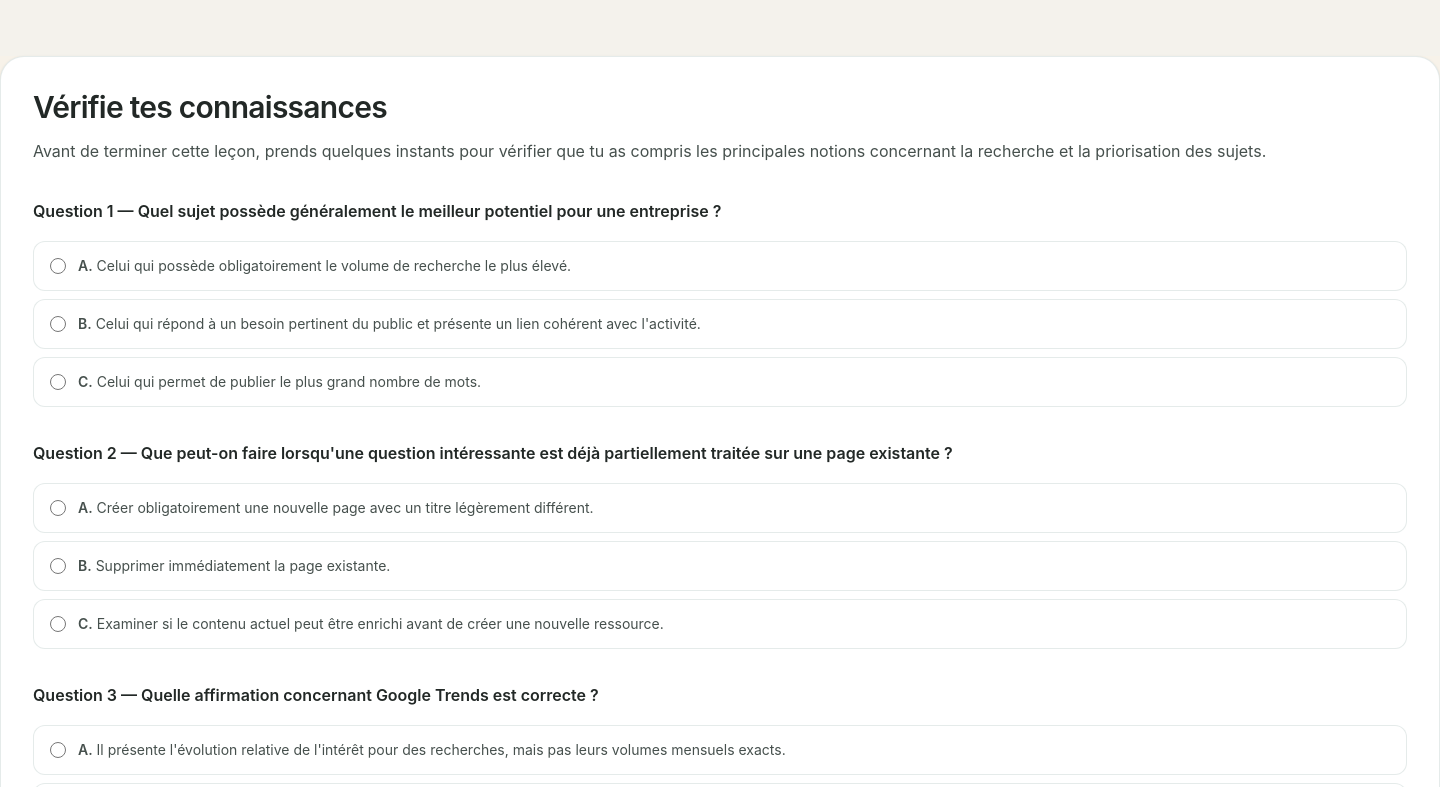
Test: questionnaire de la dix-septième leçon SEO › corrige les quatre réponses après validation
The width and height of the screenshot is (1440, 787).
expect the text "Question 4 : B." is not shown: met
Click the radio button named "quiz-question-1" at (58,324), box [50,316,66,332]
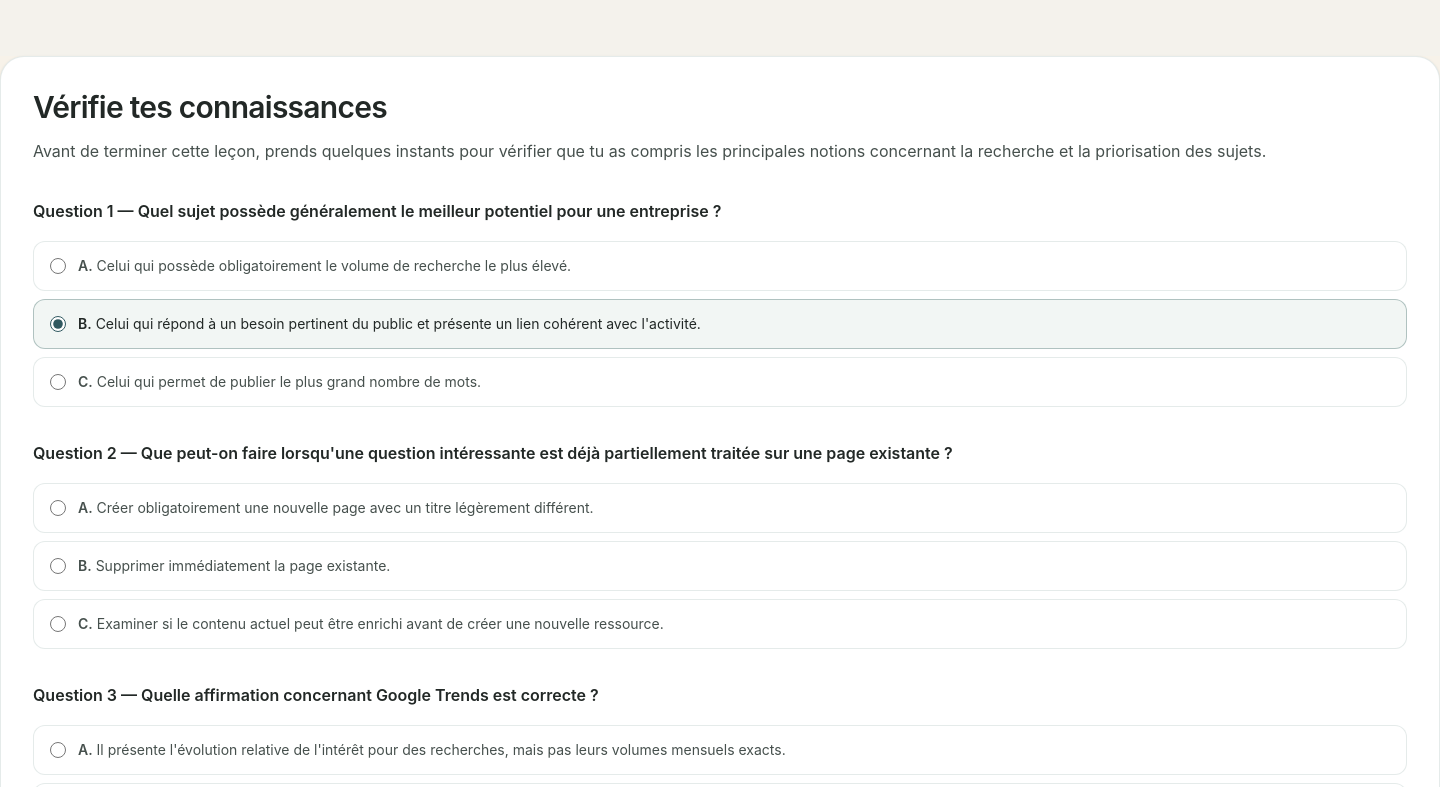
Click the radio button named "quiz-question-2" at (58,624), box [50,616,66,632]
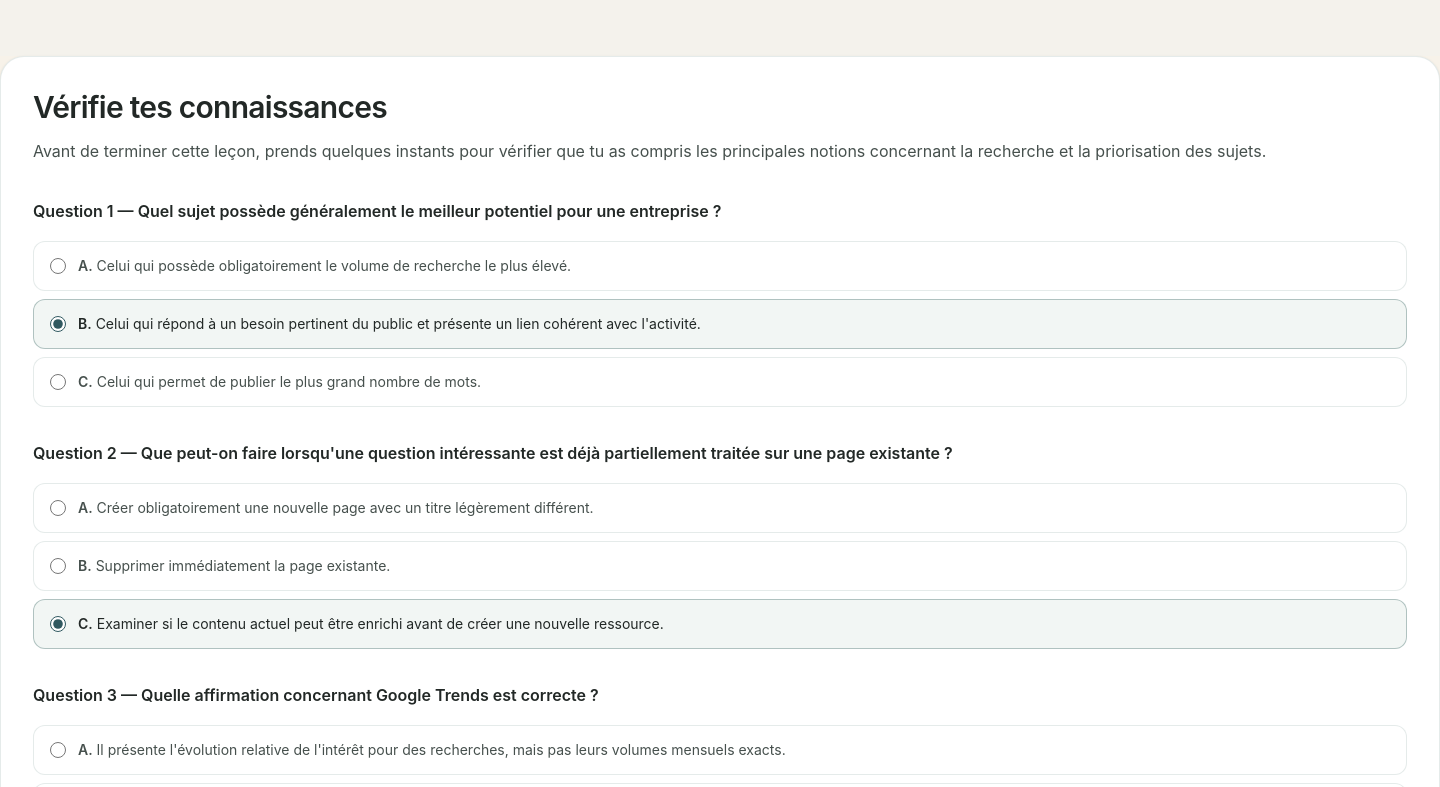
Click the radio button named "quiz-question-3" at (58,750), box [50,742,66,758]
(page scrolled)
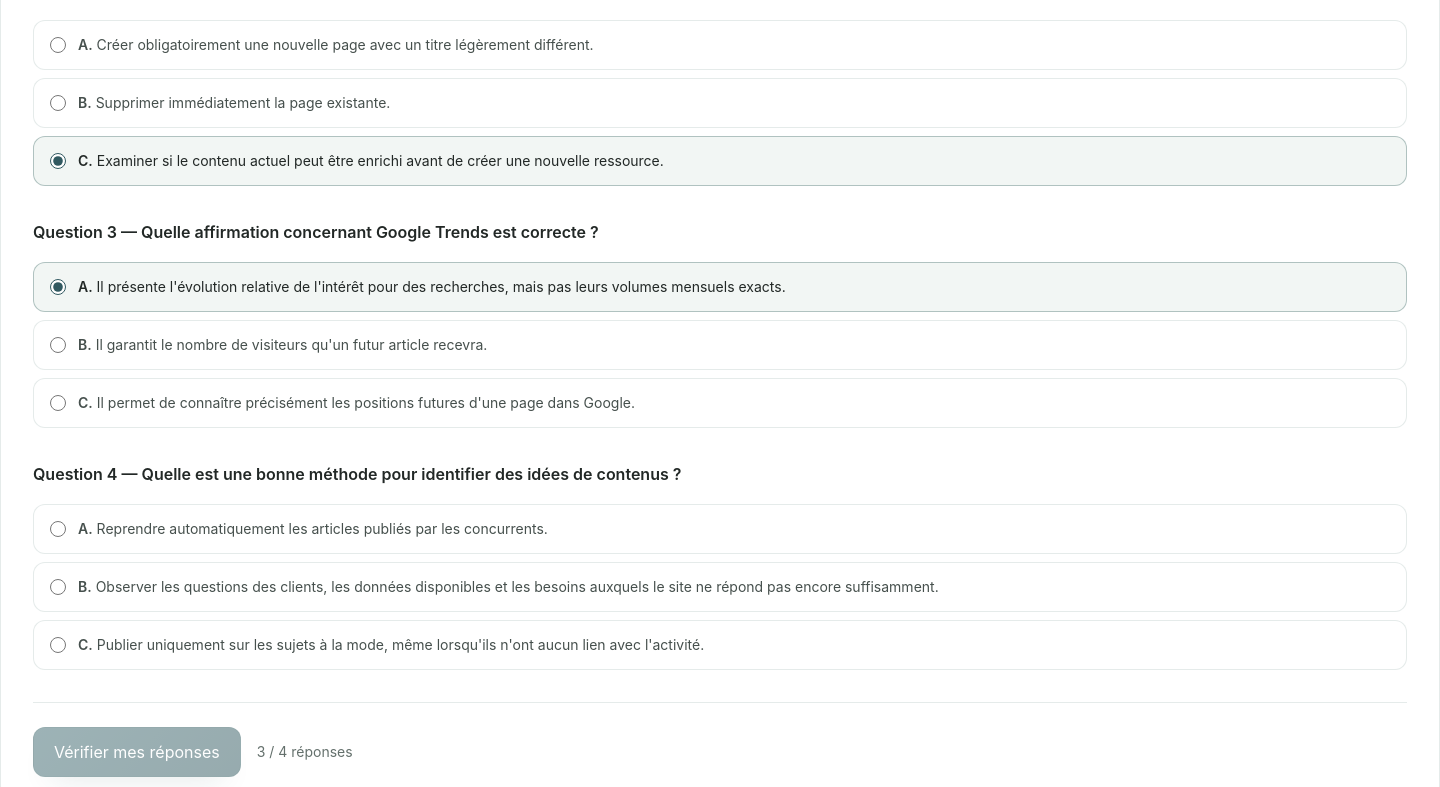
Click the radio button named "quiz-question-4" at (58,587), box [50,579,66,595]
(page scrolled)
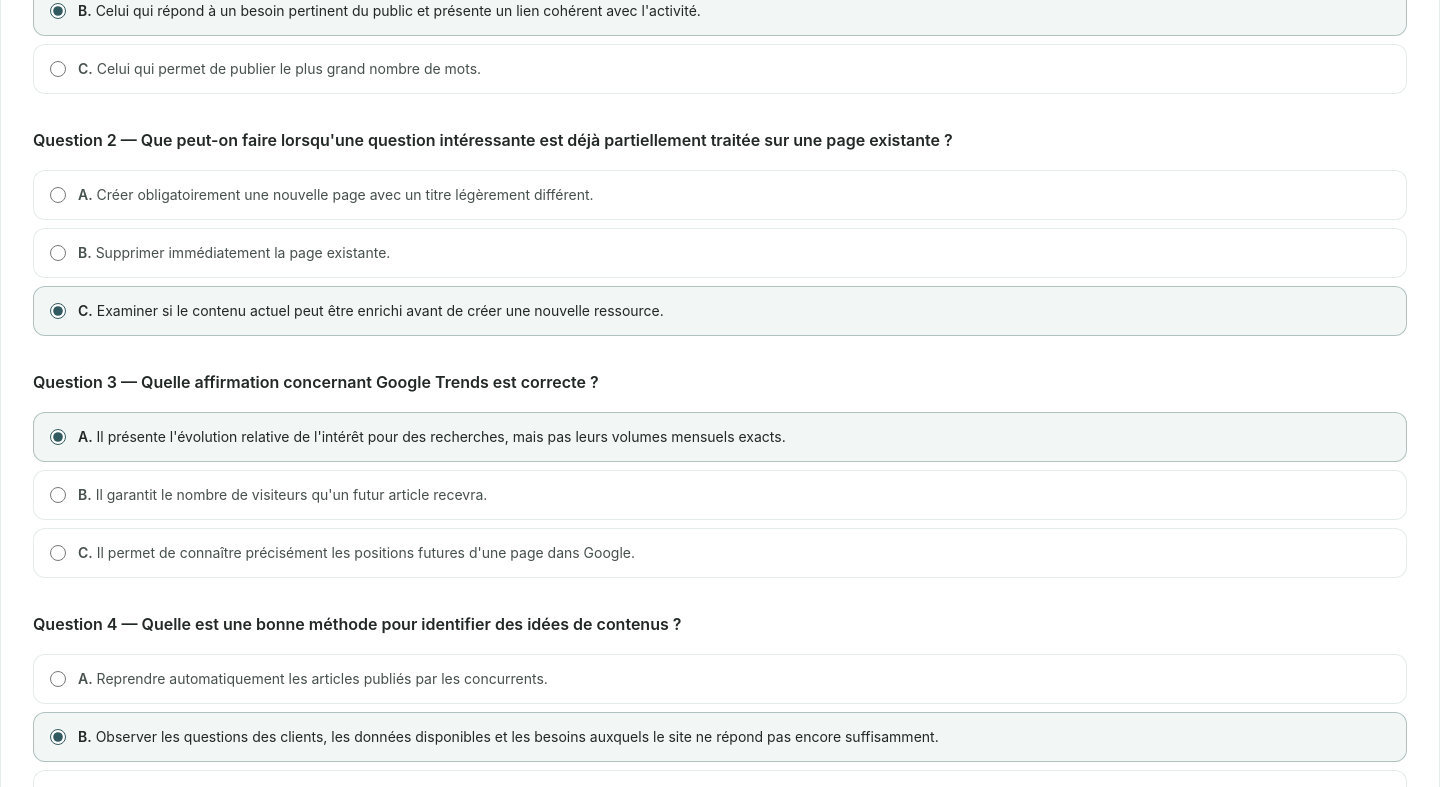
Submit the form
(page scrolled)
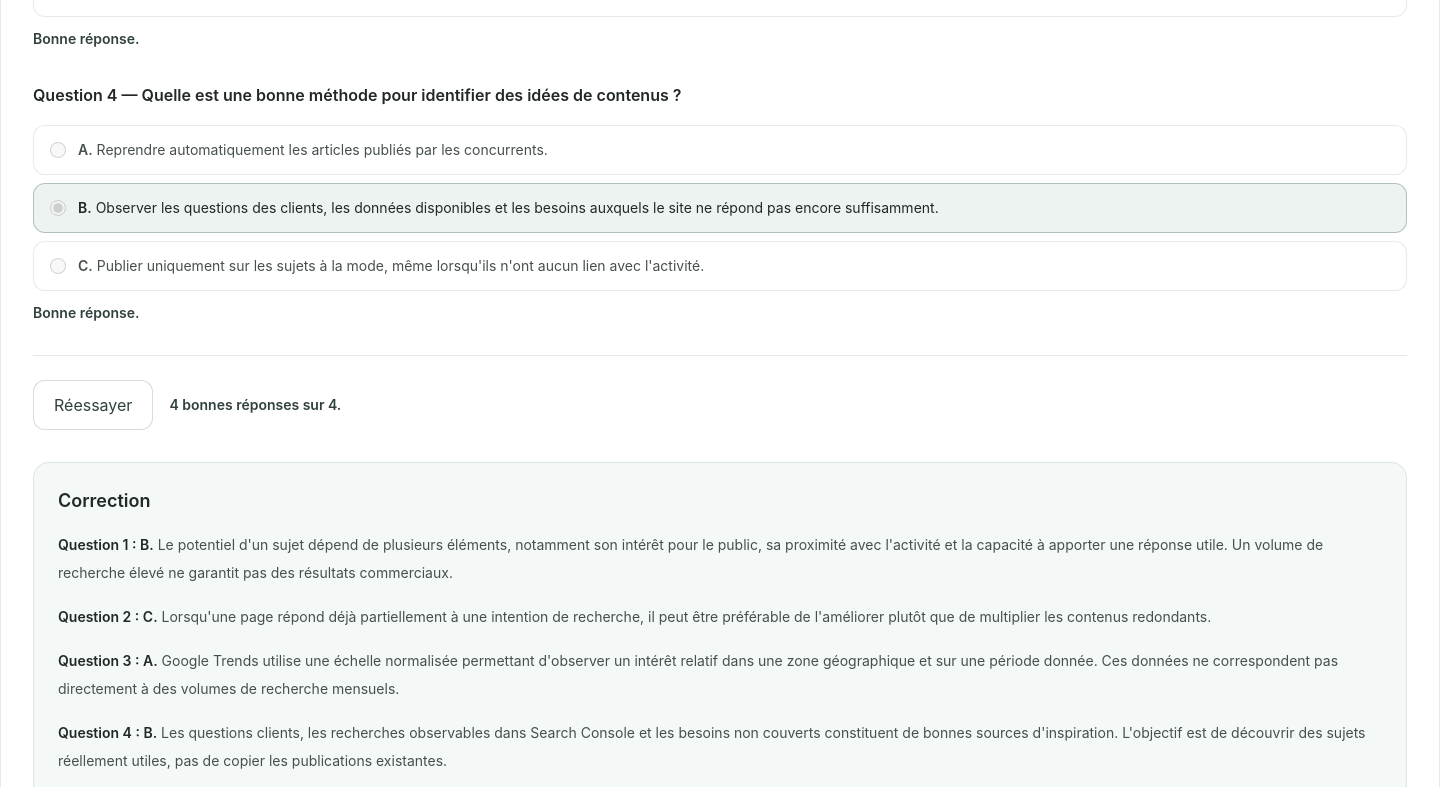
expect the message "4 bonnes réponses sur 4." is shown: met, box [169,395,341,415]
expect the text "Question 4 : B." is shown: met, box [58,724,157,741]
expect the text "pas de copier les publications existantes" is shown: met, box [58,724,1366,769]
